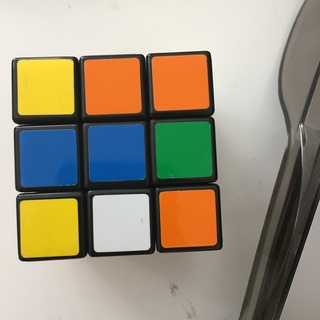face: (12, 52, 224, 259)
